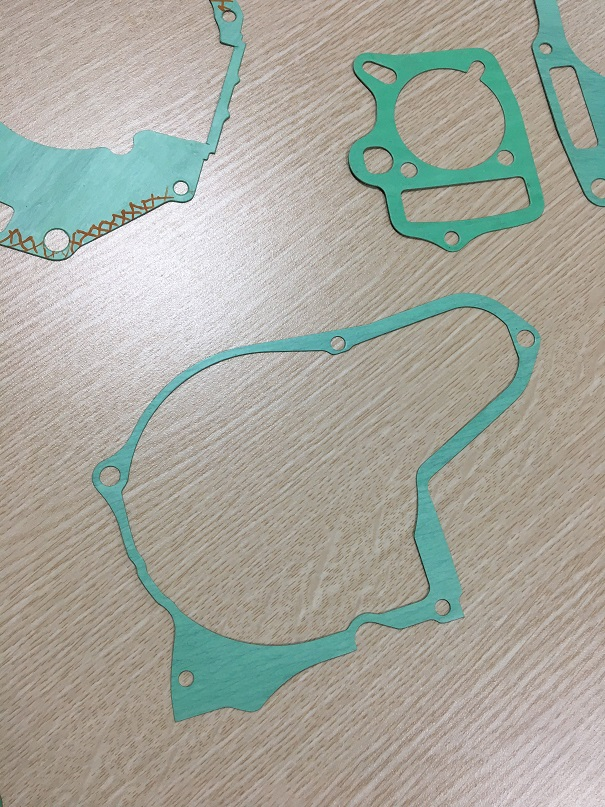type1: (69, 284, 558, 731)
type4: (326, 38, 552, 260)
